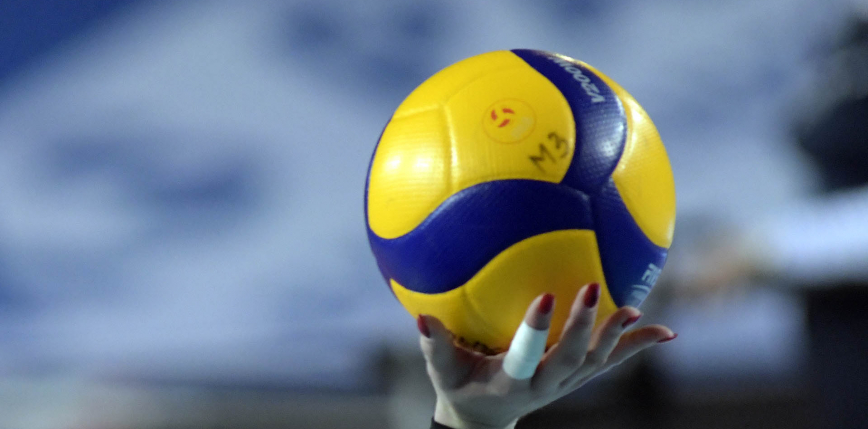ball: (363, 45, 677, 357)
